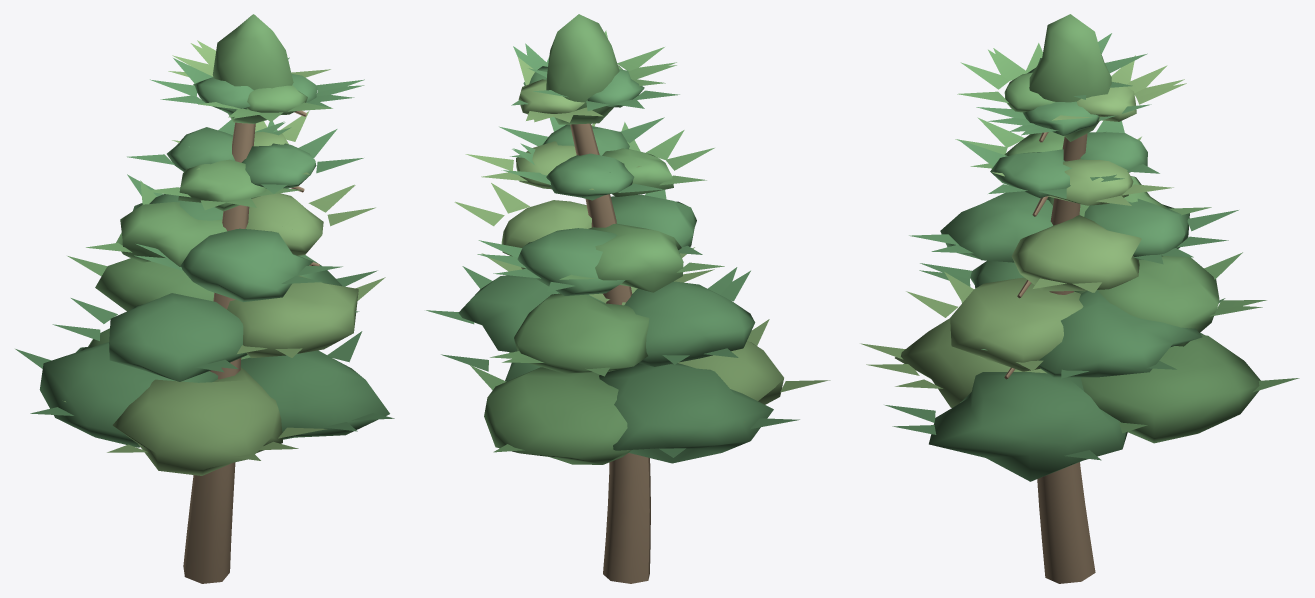
The model's file is kiefer_1.glb.
3 renders of one model, left to right at view 1: azimuth 30°, elevation 25°; view 2: azimuth 150°, elevation 25°; view 3: azimuth 270°, elevation 25°, orthographic. The views are drawn at different scales.
Parts seen in each view (by area): view 1: G_kiefer_1; view 2: G_kiefer_1; view 3: G_kiefer_1.
Part boxes in pixels (<box>): G_kiefer_1: <box>15,14,394,583</box>; G_kiefer_1: <box>426,14,830,583</box>; G_kiefer_1: <box>860,14,1299,583</box>.
Size of the model in its own units: 5.76 by 8.74 by 5.96.
